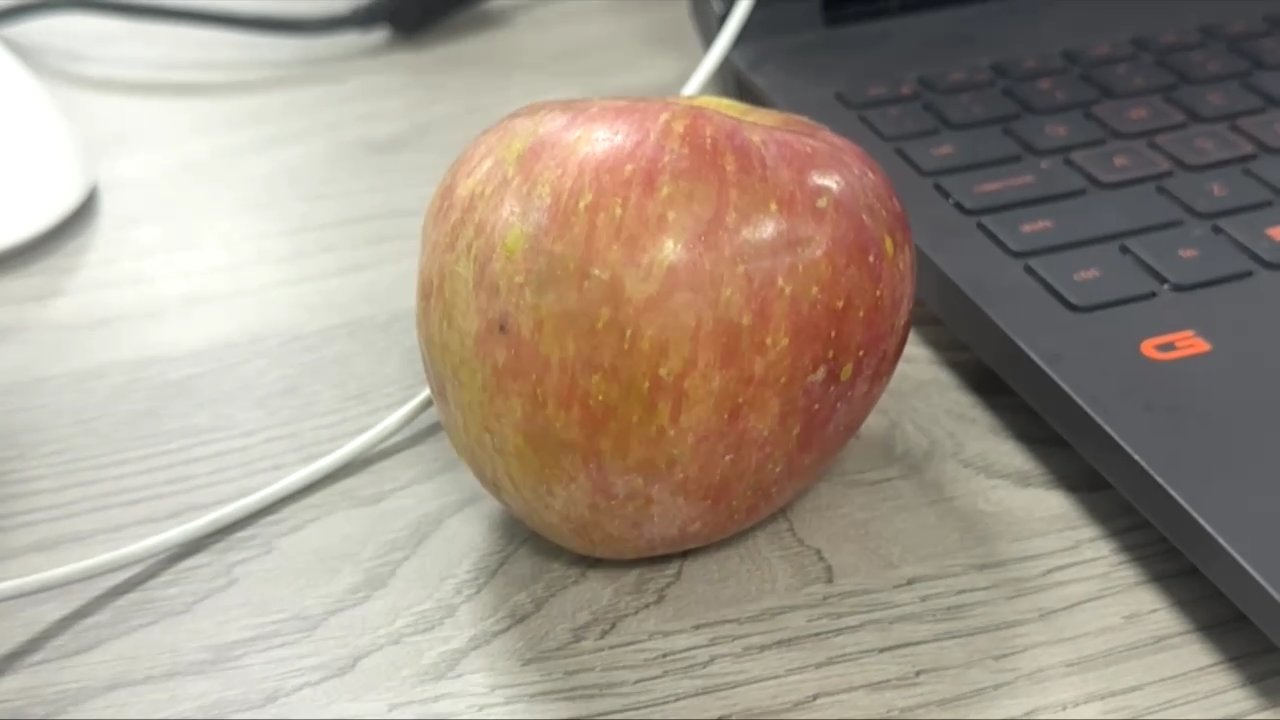apple_rotten: (409, 94, 927, 570)
